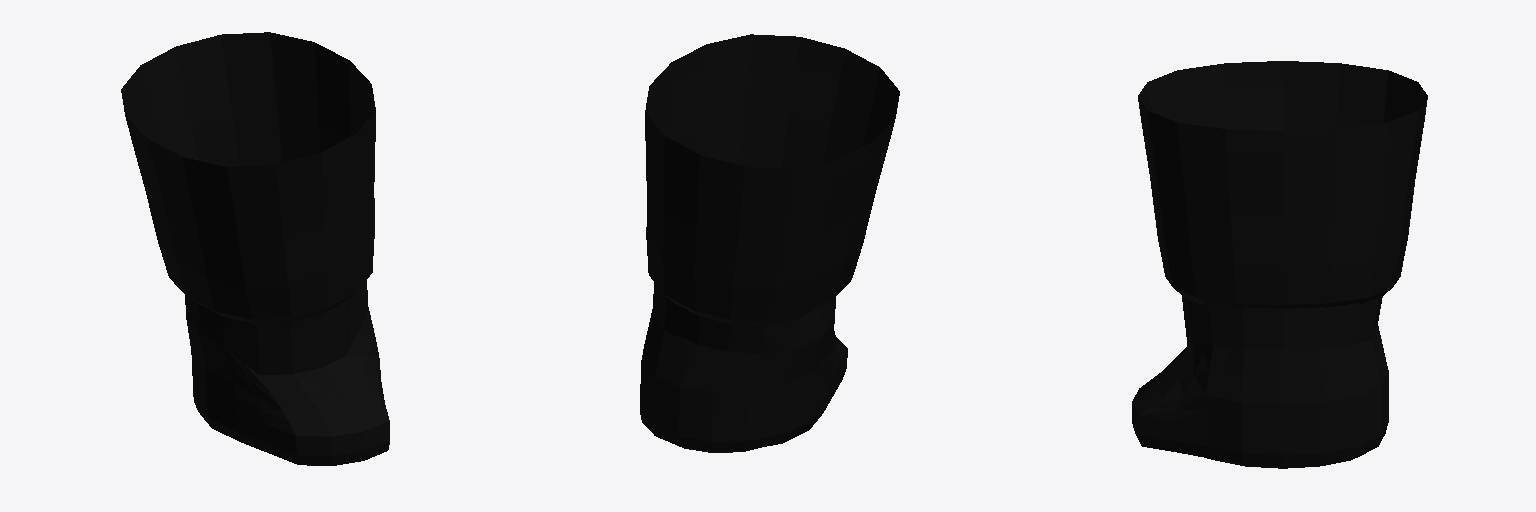
File: leftLeg.obj
The picture shows the model from 3 angles: view 1: azimuth 30°, elevation 25°; view 2: azimuth 150°, elevation 25°; view 3: azimuth 270°, elevation 25°; orthographic projection.
Parts seen in each view (by area): view 1: KNIGHT_meshes_Left_LEG_Left_LEG1; view 2: KNIGHT_meshes_Left_LEG_Left_LEG1; view 3: KNIGHT_meshes_Left_LEG_Left_LEG1.
Part boxes in pixels (left/top/right/bottom): KNIGHT_meshes_Left_LEG_Left_LEG1: left=121, top=32, right=389, bottom=465; KNIGHT_meshes_Left_LEG_Left_LEG1: left=640, top=34, right=899, bottom=452; KNIGHT_meshes_Left_LEG_Left_LEG1: left=1132, top=61, right=1427, bottom=468.
Bounding box in the file's own units: 1.44 × 2.19 × 1.72.